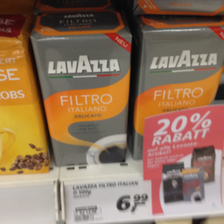coffee: (29, 10, 134, 166), (131, 13, 224, 161)
